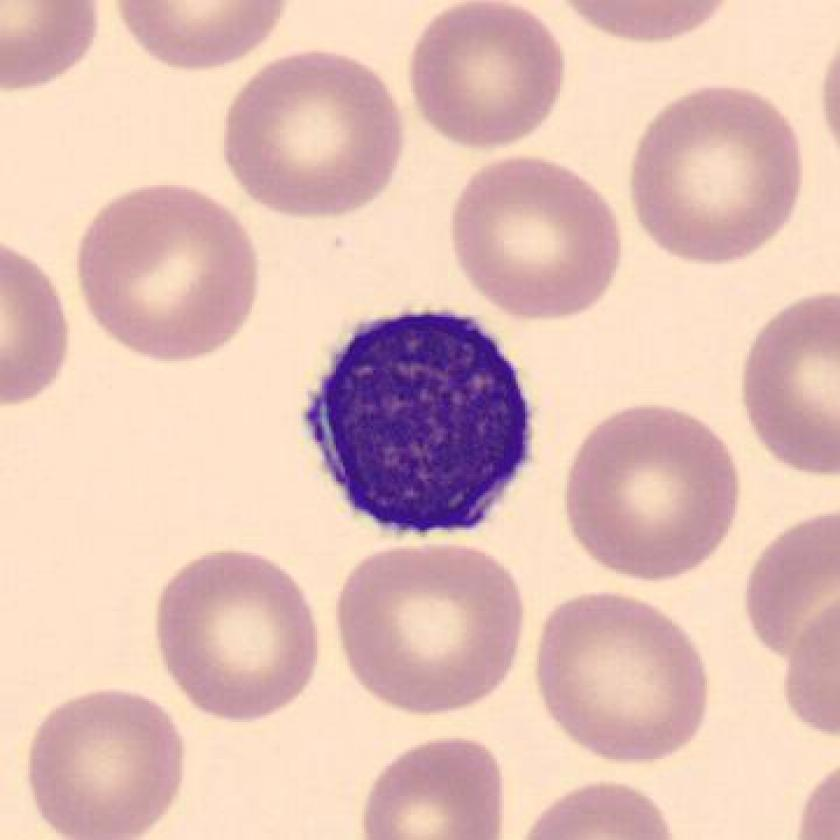lymphocyte: (288, 295, 554, 552)
